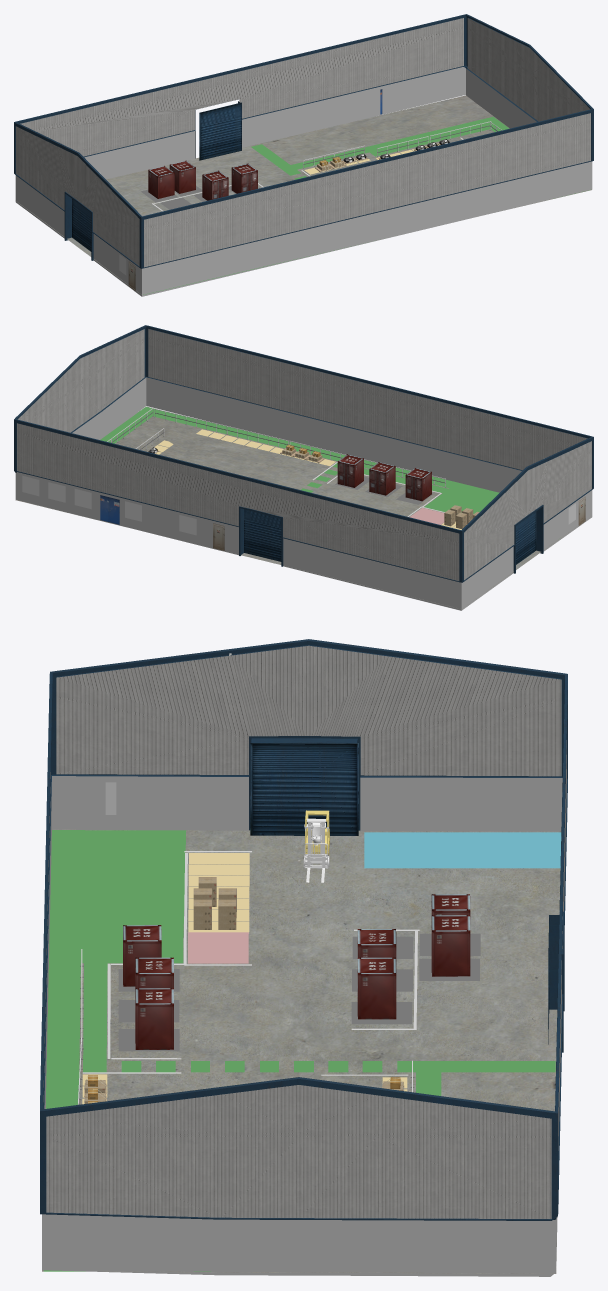
3 views of the same model, one above another, from view 1: azimuth 30°, elevation 25°; view 2: azimuth 150°, elevation 25°; view 3: azimuth 270°, elevation 25° (orthographic). The views are drawn at different scales.
Visible parts, largest first — view 1: Main_Warehouse, Floor, Walkways, Object160_Blue Rollerdoor_0, Red_CCU_2, Red_CCU_1, Red_CCU, Red_CCU_4; view 2: Main_Warehouse, Floor, Walkways, Object160_Blue Rollerdoor_0, Red_CCU_5, Red_CCU_6, Red_CCU_7, Object168_Double door_0, Object160_Blue Paint_0, Quarantine; view 3: Main_Warehouse, Floor, Walkways, Zones, Red_CCU_1, Red_CCU_4, Red_CCU_6, Quarantine, Red_CCU_7, Object160_Blue Paint_0, Red_CCU_5, Red_CCU (+1 smaller).
Boxes of the visible parts, x1,y1,x2,y2 form: Main_Warehouse: (14,14,593,296); Floor: (15,95,591,294); Walkways: (143,116,589,294); Object160_Blue Rollerdoor_0: (199,102,241,160); Red_CCU_2: (148,165,174,198); Red_CCU_1: (231,163,257,193); Red_CCU: (202,170,228,200); Red_CCU_4: (169,160,195,193); Main_Warehouse: (14,325,593,610); Floor: (15,406,589,608); Walkways: (100,407,499,513); Object160_Blue Rollerdoor_0: (244,509,281,561); Red_CCU_5: (369,462,395,495); Red_CCU_6: (337,454,363,487); Red_CCU_7: (405,468,431,501); Object168_Double door_0: (100,495,119,524); Object160_Blue Paint_0: (239,506,283,566); Quarantine: (409,508,444,524); Main_Warehouse: (40,639,567,1276); Floor: (42,829,560,1273); Walkways: (43,830,555,1271); Zones: (364,832,561,868); Red_CCU_1: (357,957,396,1019); Red_CCU_4: (431,915,470,976); Red_CCU_6: (135,988,173,1049); Quarantine: (188,932,248,963); Red_CCU_7: (123,925,161,986); Object160_Blue Paint_0: (549,911,564,1052); Red_CCU_5: (135,957,173,988); Red_CCU: (357,929,396,959).
Bounding box in the file's own units: 5262 × 1101 × 2659.
